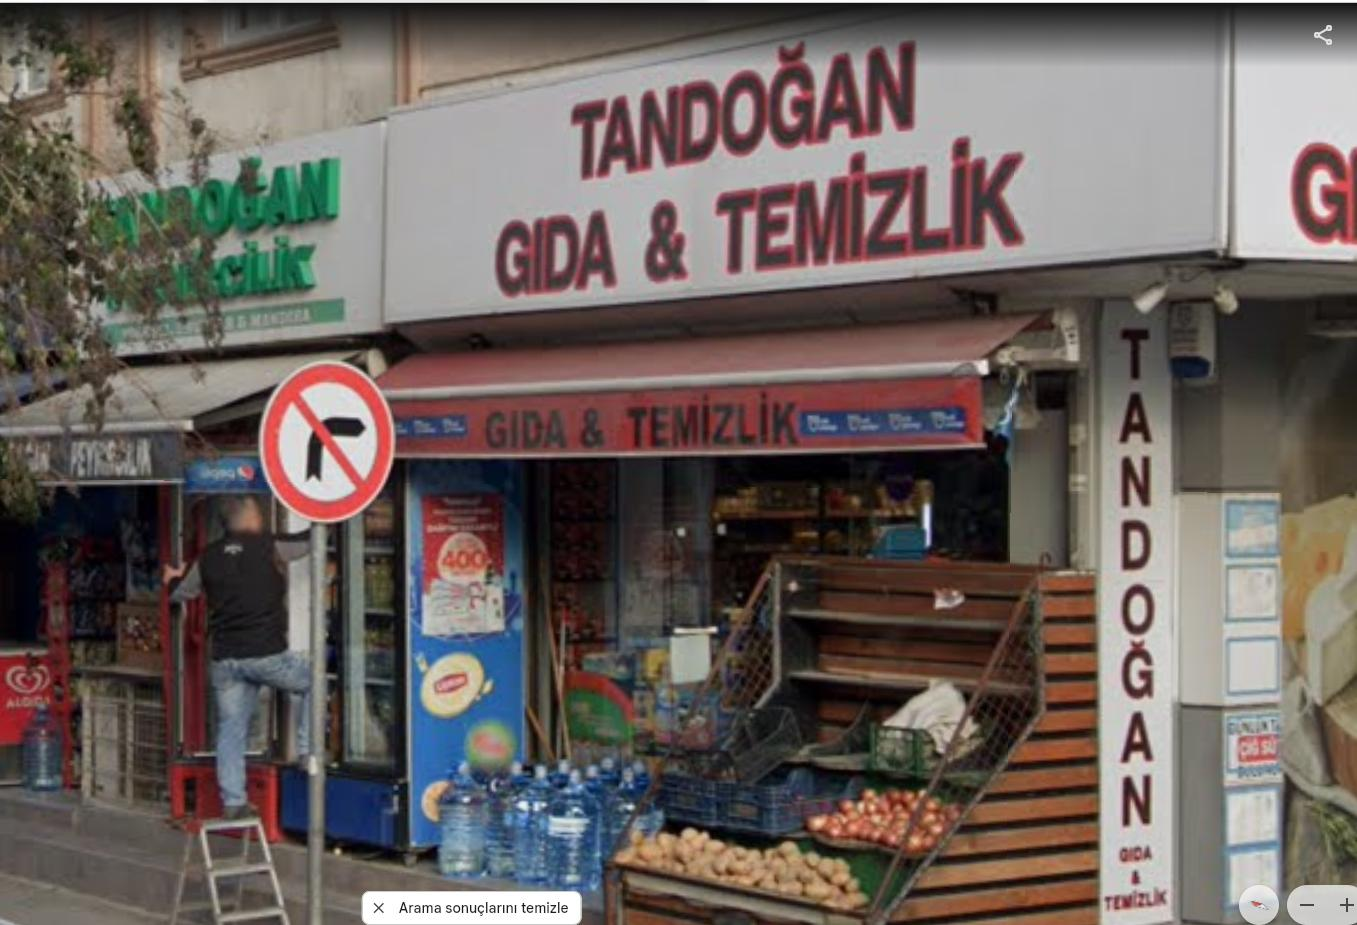rightturnsareforbidden: (264, 365, 380, 514)
